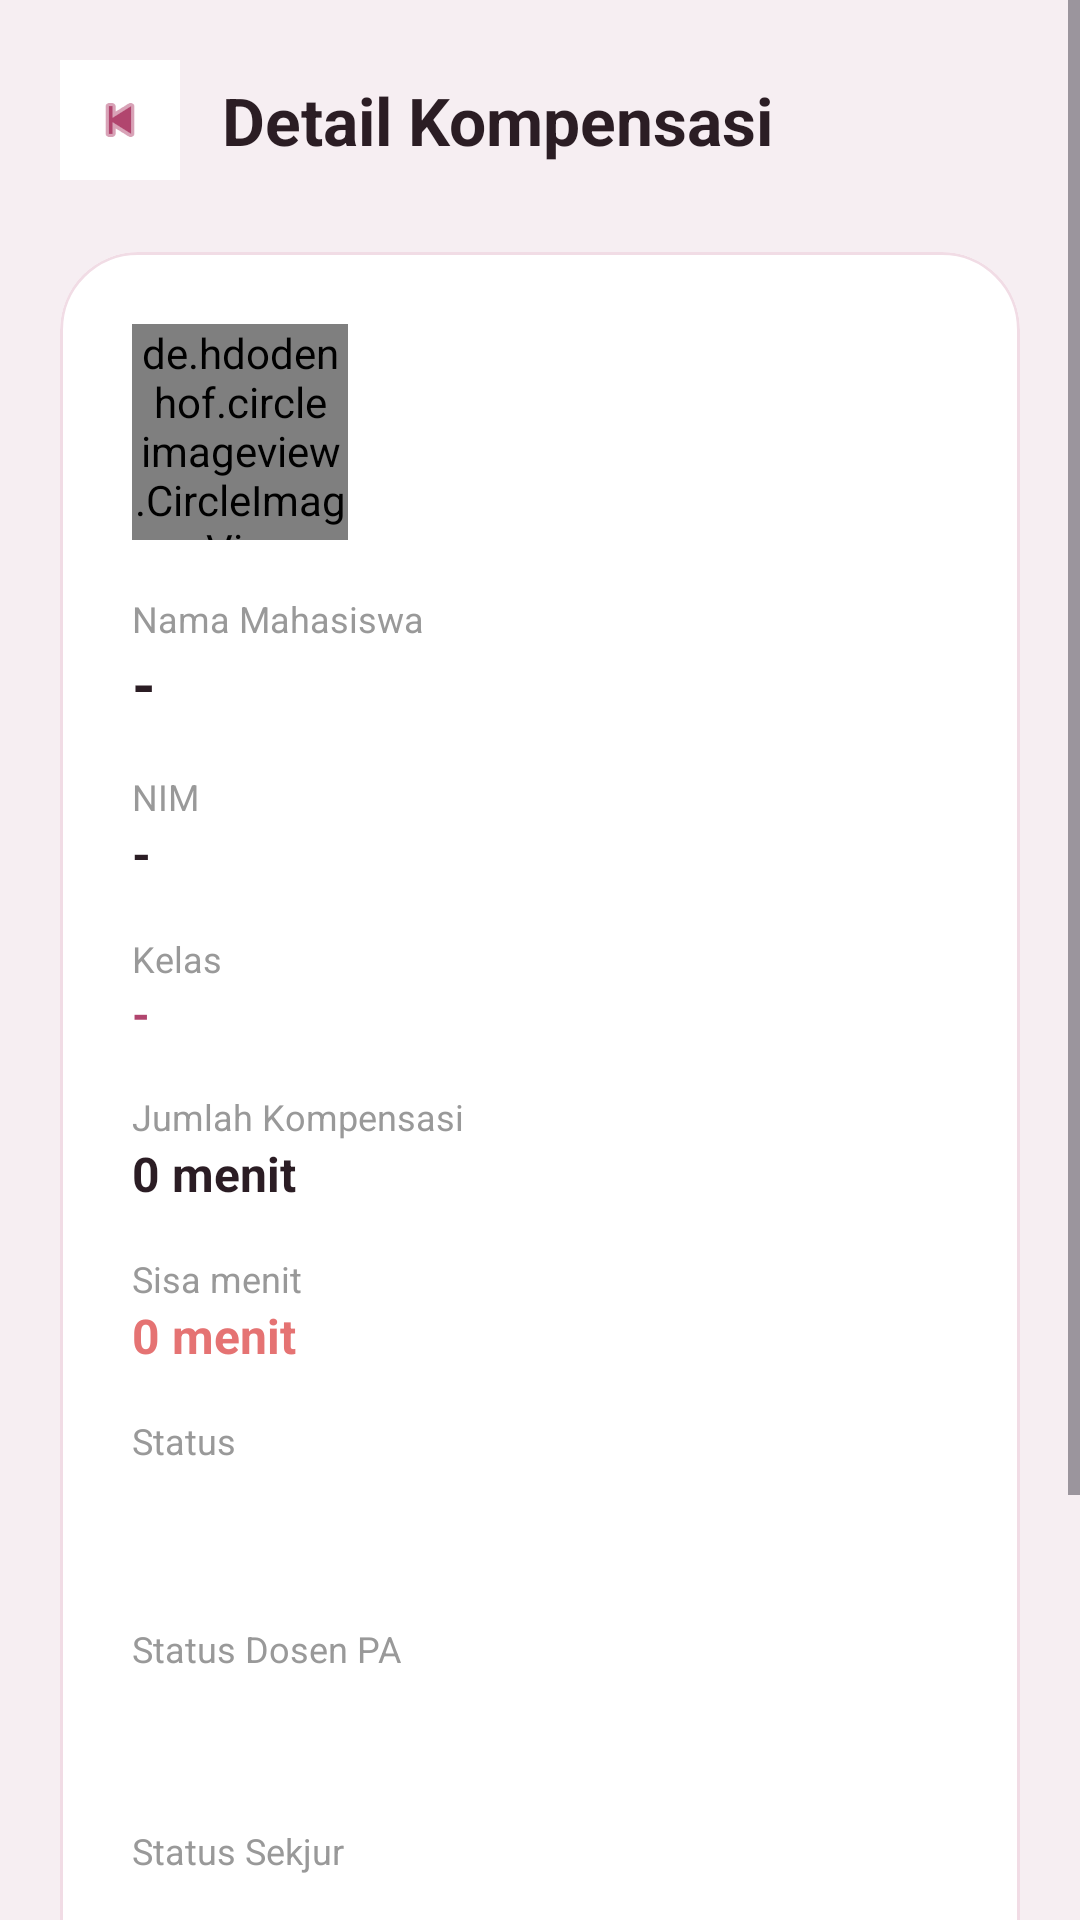

Point at icon controls on the screen. Image size 1080x1920, points as (x,y).
previous: (120,120)
